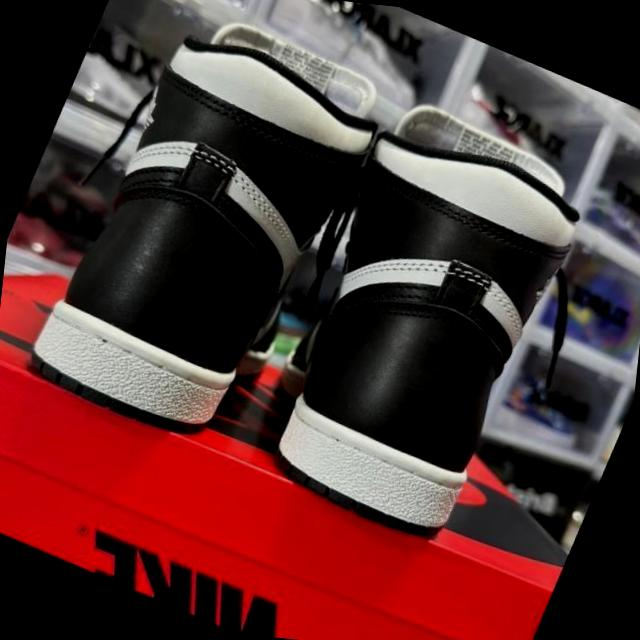nike_original_jordan: (233, 66, 611, 560), (18, 0, 391, 469)
